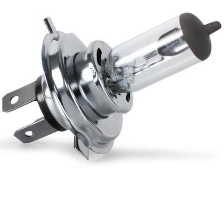light_bulb: (0, 9, 224, 163)
